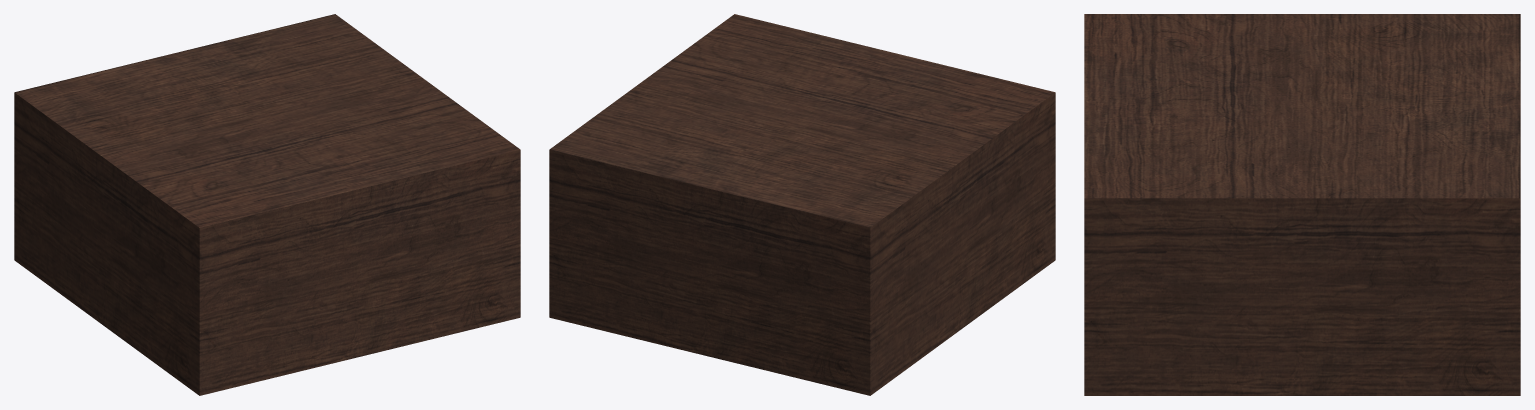
File: Bibliothek_CeilingTile.fbx
3 views of the same model, side by side, from view 1: azimuth 30°, elevation 25°; view 2: azimuth 150°, elevation 25°; view 3: azimuth 270°, elevation 25° (orthographic). The views are drawn at different scales.
Parts seen in each view (by area): view 1: Bibliothek_CeilingTile; view 2: Bibliothek_CeilingTile; view 3: Bibliothek_CeilingTile.
Boxes of the visible parts, x1,y1,x2,y2 form: Bibliothek_CeilingTile: [14, 14, 520, 395]; Bibliothek_CeilingTile: [549, 14, 1055, 395]; Bibliothek_CeilingTile: [1084, 14, 1520, 395].
Size of the model in its own units: 200 by 100 by 200.
